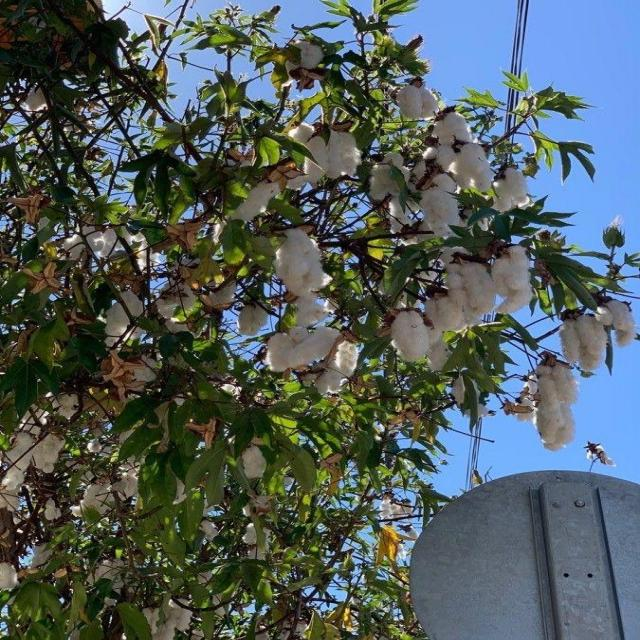Late_blight: (508, 347, 586, 458), (257, 321, 346, 377), (555, 301, 614, 377), (297, 122, 364, 180), (414, 166, 465, 242), (274, 229, 330, 291), (442, 258, 491, 315), (598, 289, 639, 357), (100, 284, 146, 344), (0, 423, 37, 496), (493, 247, 531, 314), (385, 308, 432, 359), (143, 600, 197, 640), (392, 80, 437, 123), (452, 142, 491, 190), (491, 164, 529, 212), (157, 279, 198, 317), (430, 108, 472, 142), (238, 439, 269, 484), (239, 181, 274, 220), (425, 292, 460, 330), (38, 430, 61, 475), (295, 40, 323, 71), (43, 495, 65, 524), (586, 444, 615, 464), (27, 88, 47, 113), (404, 525, 418, 538)
